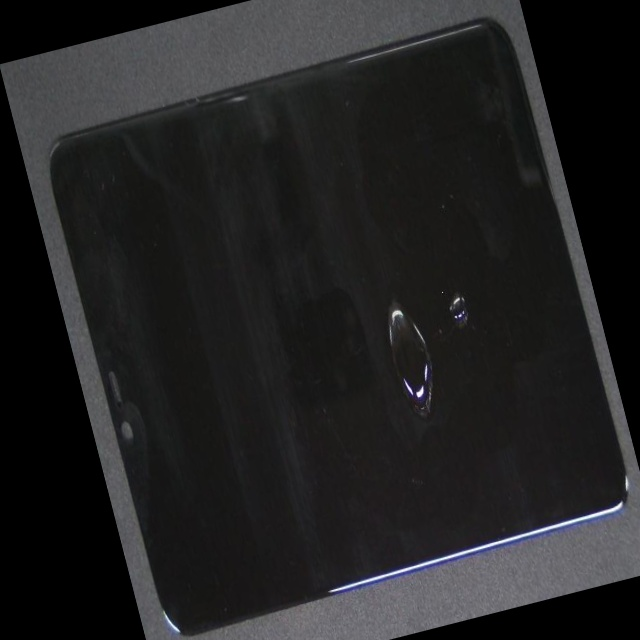oil: (176, 104, 605, 630), (212, 83, 637, 546)
